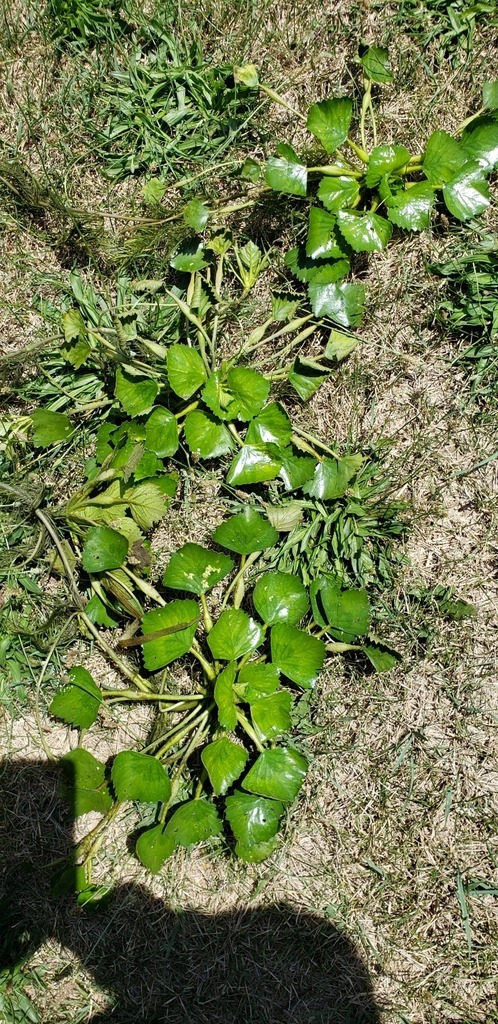water chestnut: (13, 37, 496, 906)
